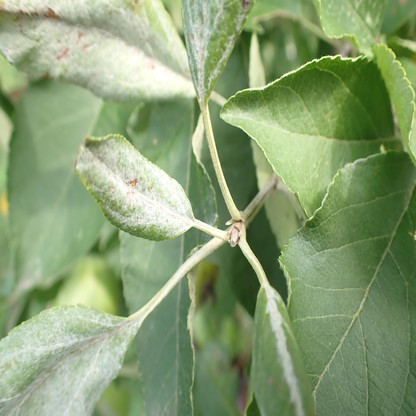powdery_mildew: (2, 2, 195, 101), (0, 303, 131, 416), (75, 133, 191, 241), (182, 2, 251, 99), (252, 289, 305, 414)
